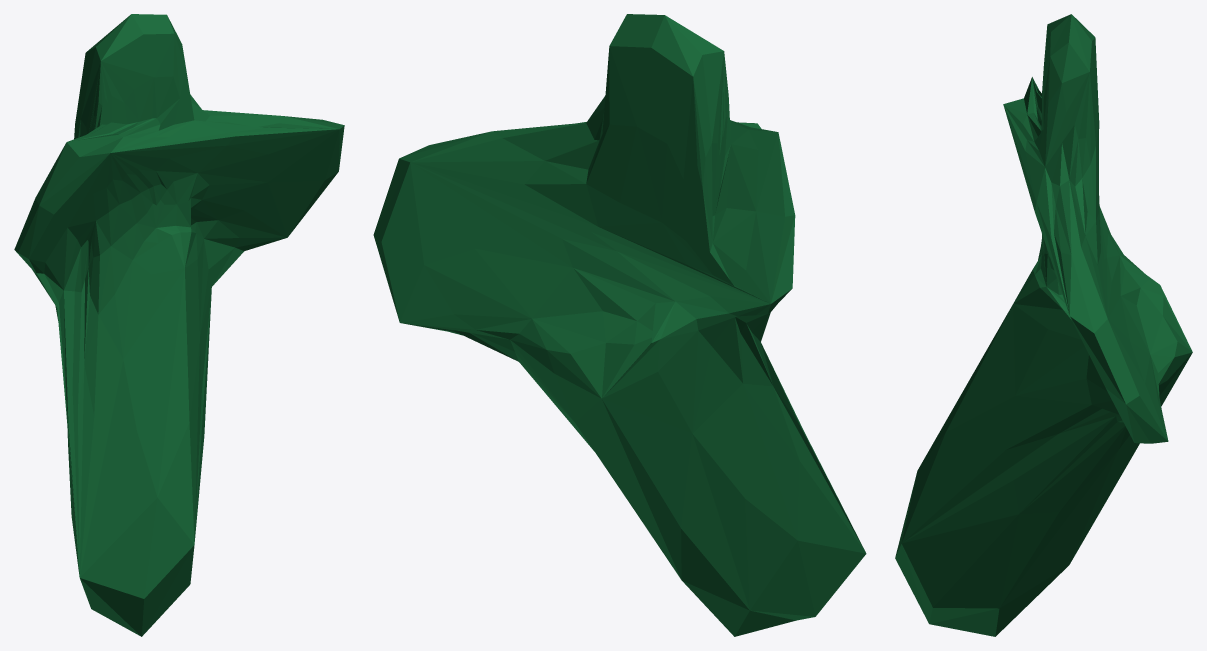
3 renders of one model, left to right at view 1: azimuth 30°, elevation 25°; view 2: azimuth 150°, elevation 25°; view 3: azimuth 270°, elevation 25°, orthographic. The views are drawn at different scales.
Visible parts, largest first — view 1: 617_Cube.2482; view 2: 617_Cube.2482; view 3: 617_Cube.2482.
Boxes of the visible parts, x1=… form: 617_Cube.2482: x1=14, y1=14, x2=344, y2=636; 617_Cube.2482: x1=373, y1=14, x2=866, y2=636; 617_Cube.2482: x1=895, y1=14, x2=1192, y2=636.
Size of the model in its own units: 12.05 by 18.78 by 7.93.
